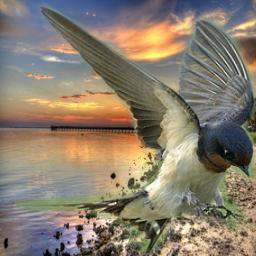Swallow: (15, 0, 256, 255)
